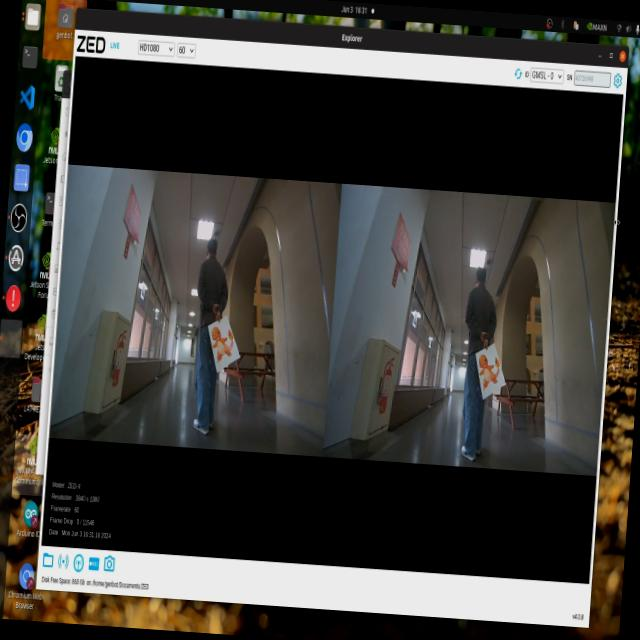red: (464, 344, 509, 402), (202, 316, 240, 372)
